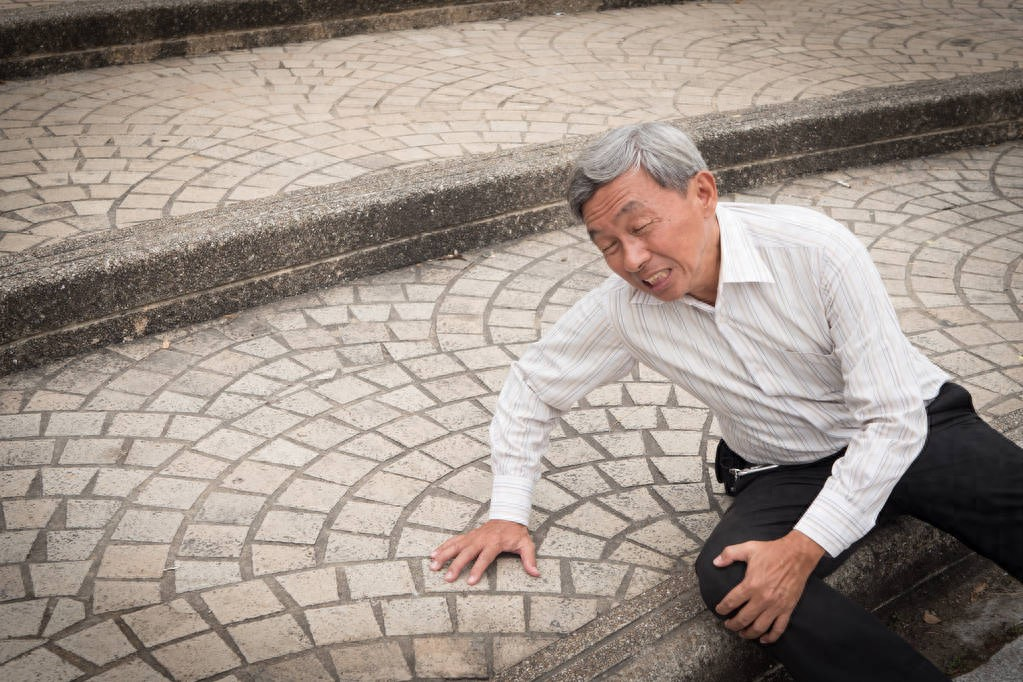down: (416, 110, 1012, 673)
